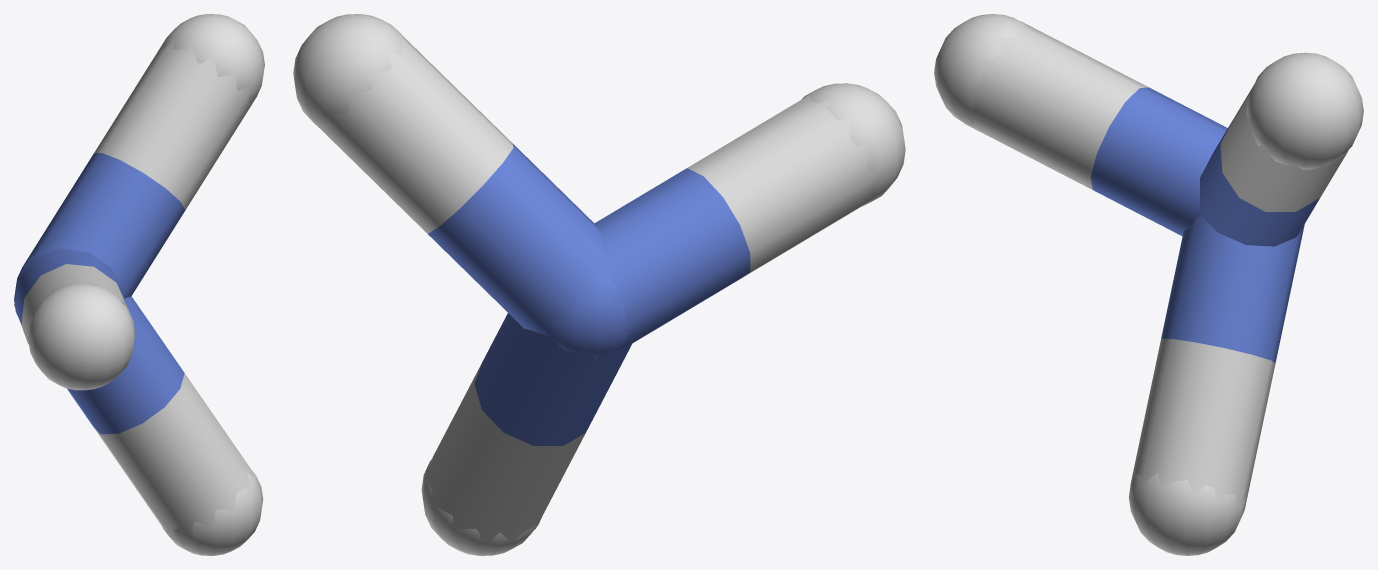
File: ammonia-sticks.glb
The picture shows the model from 3 angles, left to right: view 1: azimuth 30°, elevation 25°; view 2: azimuth 150°, elevation 25°; view 3: azimuth 270°, elevation 25°; orthographic projection. The views are drawn at different scales.
Parts seen in each view (by area): view 1: ammonia-sticks; view 2: ammonia-sticks; view 3: ammonia-sticks.
Boxes of the visible parts, x1,y1,x2,y2 form: ammonia-sticks: [14, 14, 264, 555]; ammonia-sticks: [293, 14, 905, 555]; ammonia-sticks: [934, 14, 1363, 555].
Size of the model in its own units: 1.57 by 1.96 by 1.46.
